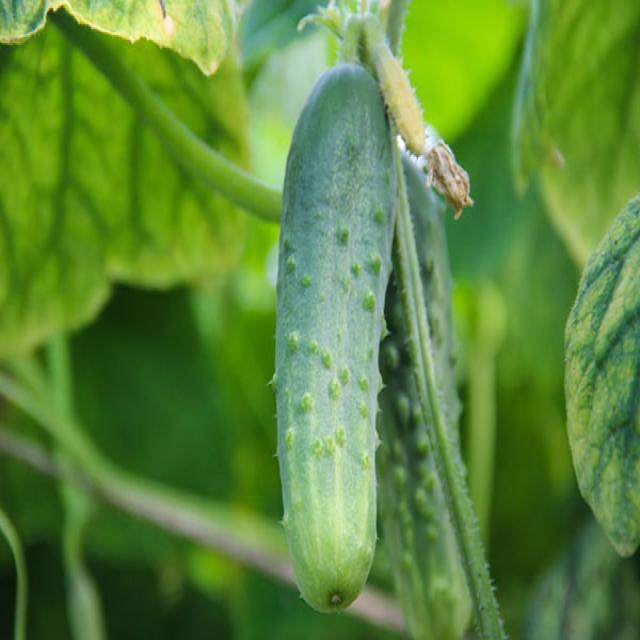cucumber: (274, 58, 398, 612)
